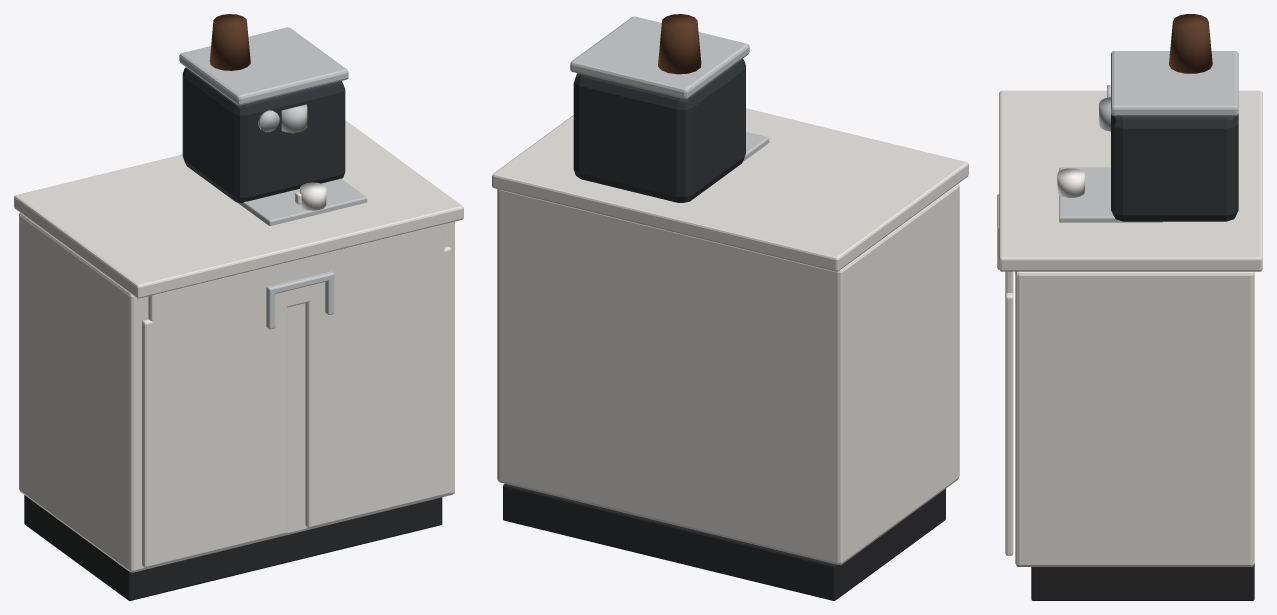
File: coffeeMachine.glb
The picture shows the model from 3 angles, left to right: view 1: azimuth 30°, elevation 25°; view 2: azimuth 150°, elevation 25°; view 3: azimuth 270°, elevation 25°; orthographic projection. The views are drawn at different scales.
Parts seen in each view (by area): view 1: body, cup; view 2: body; view 3: body, cup.
Boxes of the visible parts, bbox=[...] form: body: bbox=[14, 14, 463, 600]; cup: bbox=[295, 182, 326, 210]; body: bbox=[492, 14, 968, 600]; body: bbox=[997, 14, 1262, 600]; cup: bbox=[1057, 168, 1084, 197].
Bounding box in the file's own units: 1 × 1.41 × 0.665.
